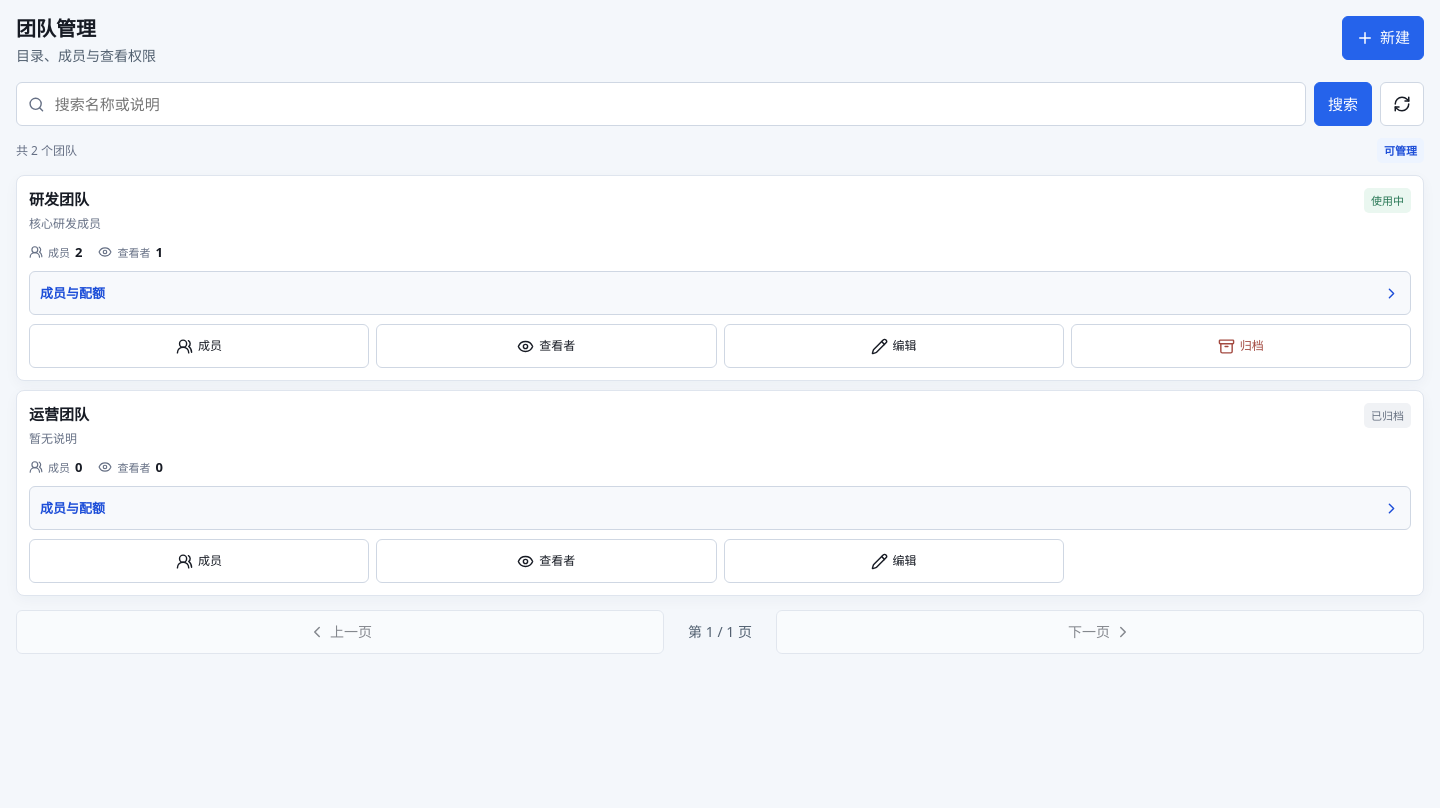
Test: MobileUserGroupsView › keeps a created group and reports stale directory data when post-create sync fails
Click the button with test id "create-user-group".
click(1383, 38)  # box [1342, 16, 1424, 60]
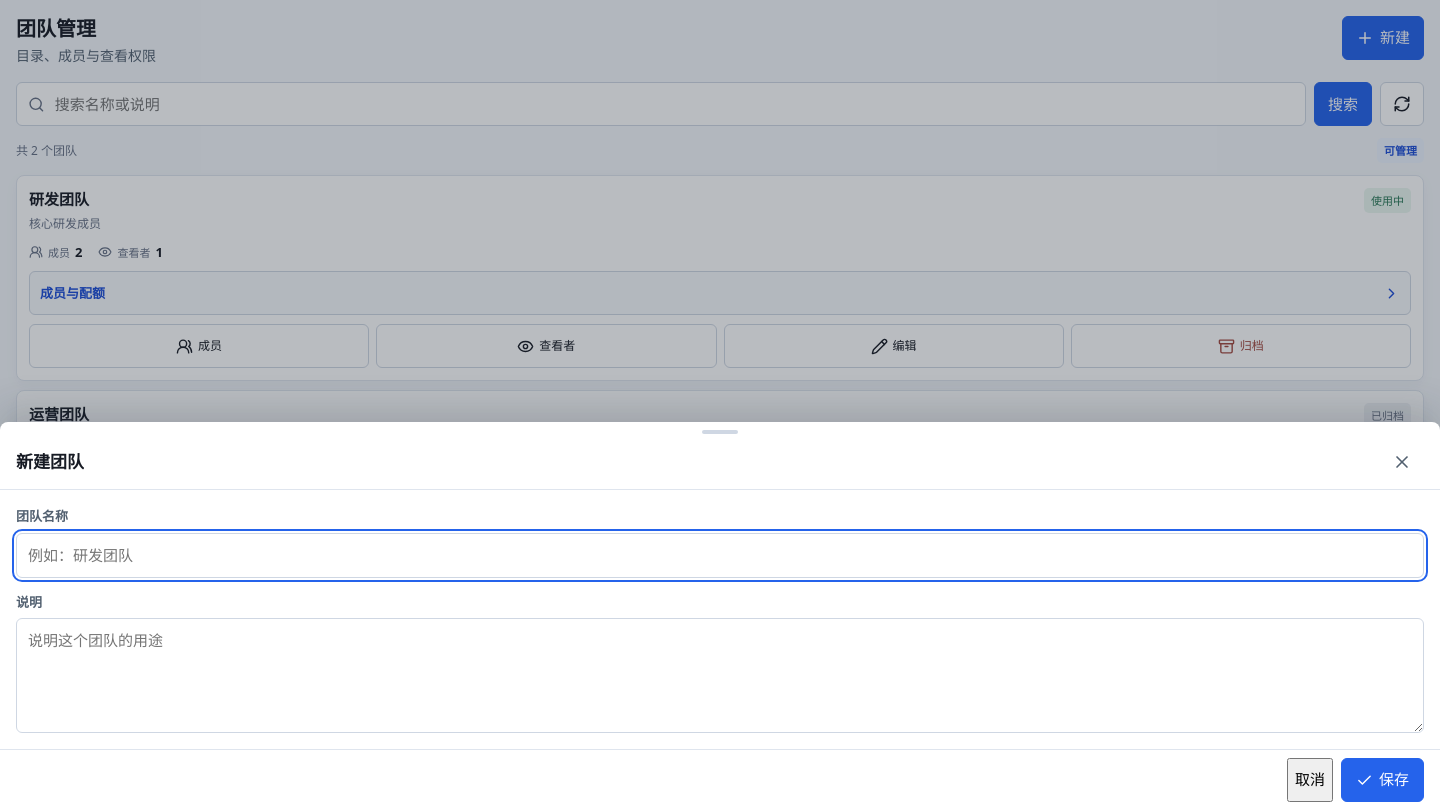
Type "本地新组" into the field with test id "user-group-name".
click(720, 555); type("本地新组")  # box [16, 533, 1424, 578]
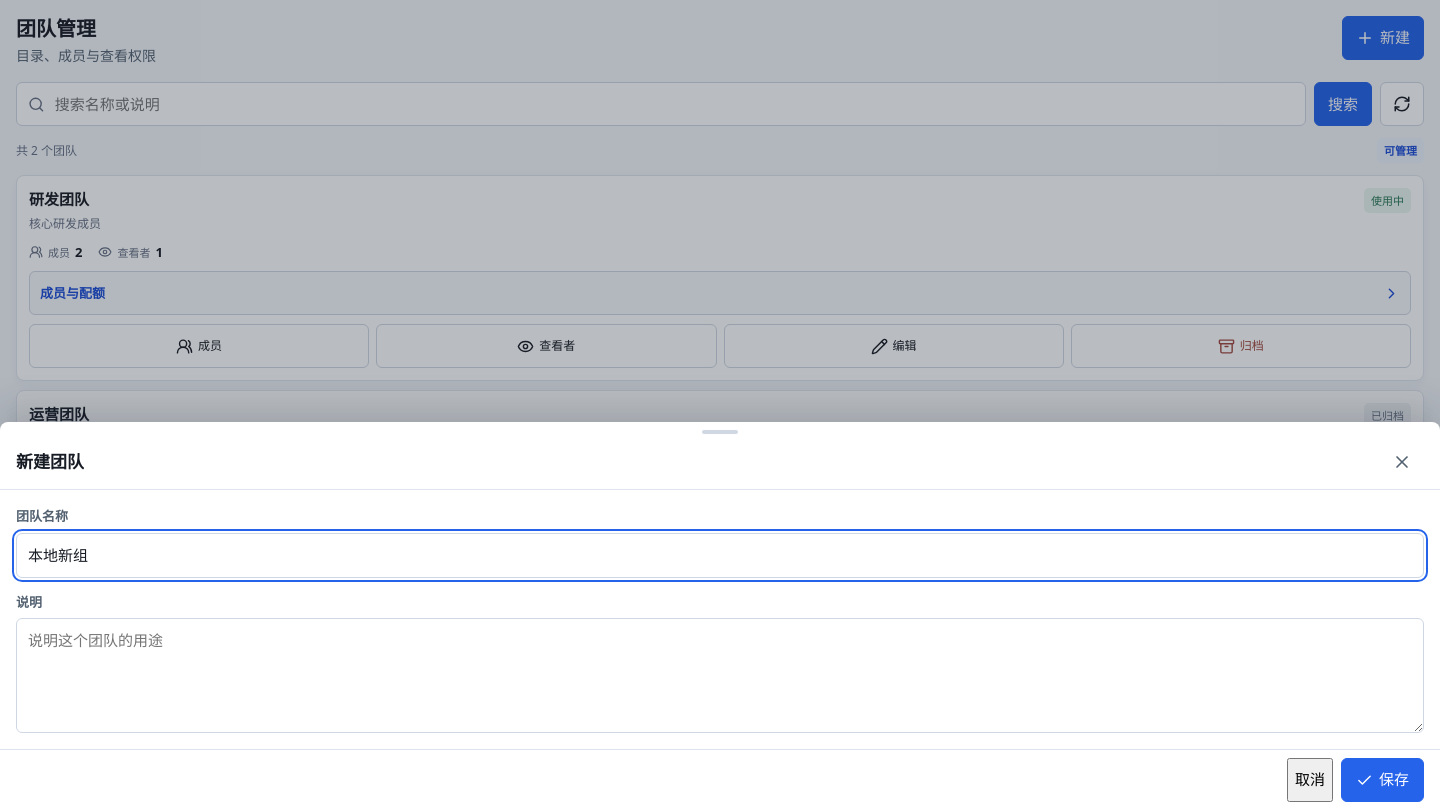
Submit the form with test id "user-group-editor-form", box [16, 506, 1424, 733]
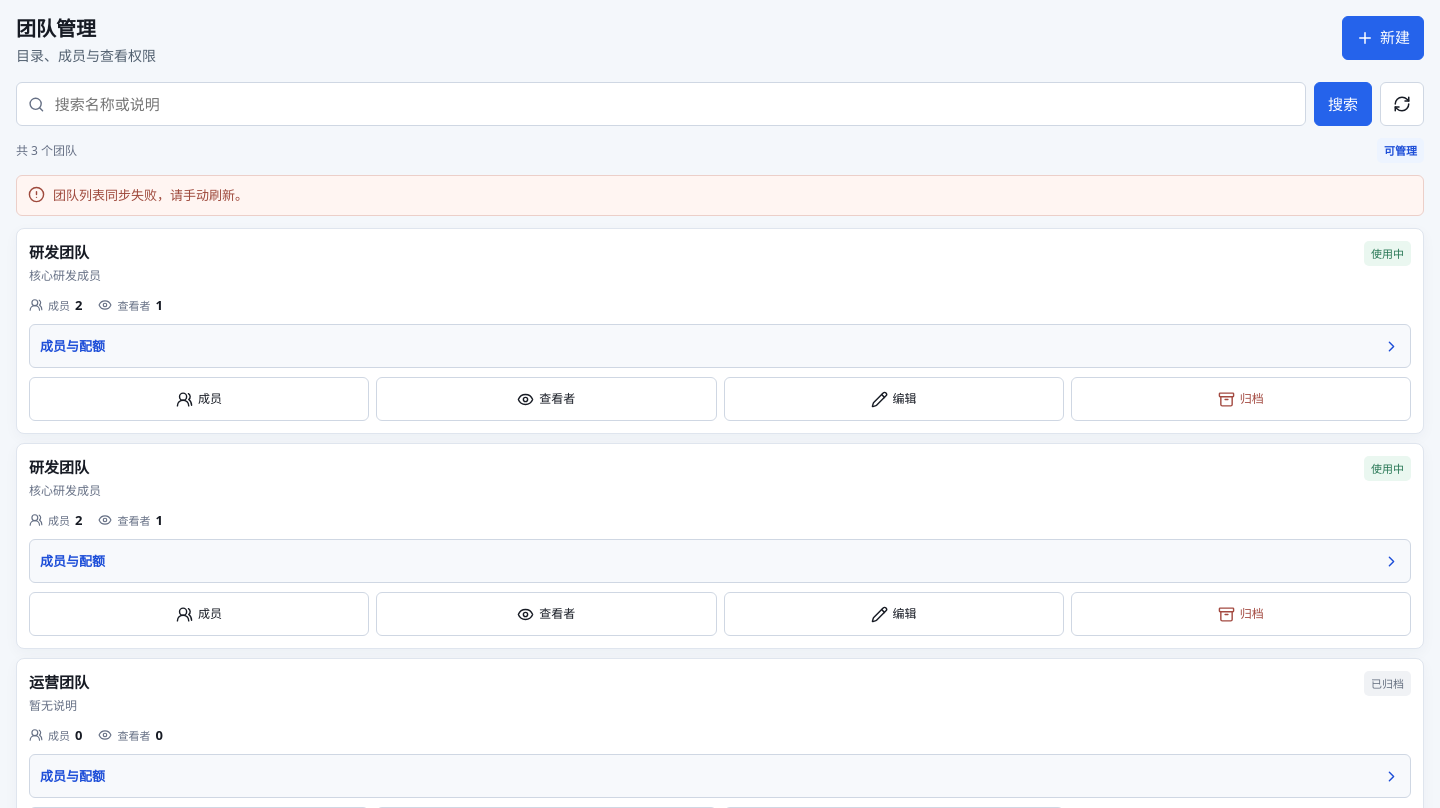
Expected: the button with test id "edit-user-group-20" is shown, [724, 377, 1064, 421]
Expected: the message with test id "user-group-sync-warning" reads "团队列表同步失败，请手动刷新。", [53, 186, 248, 204]
